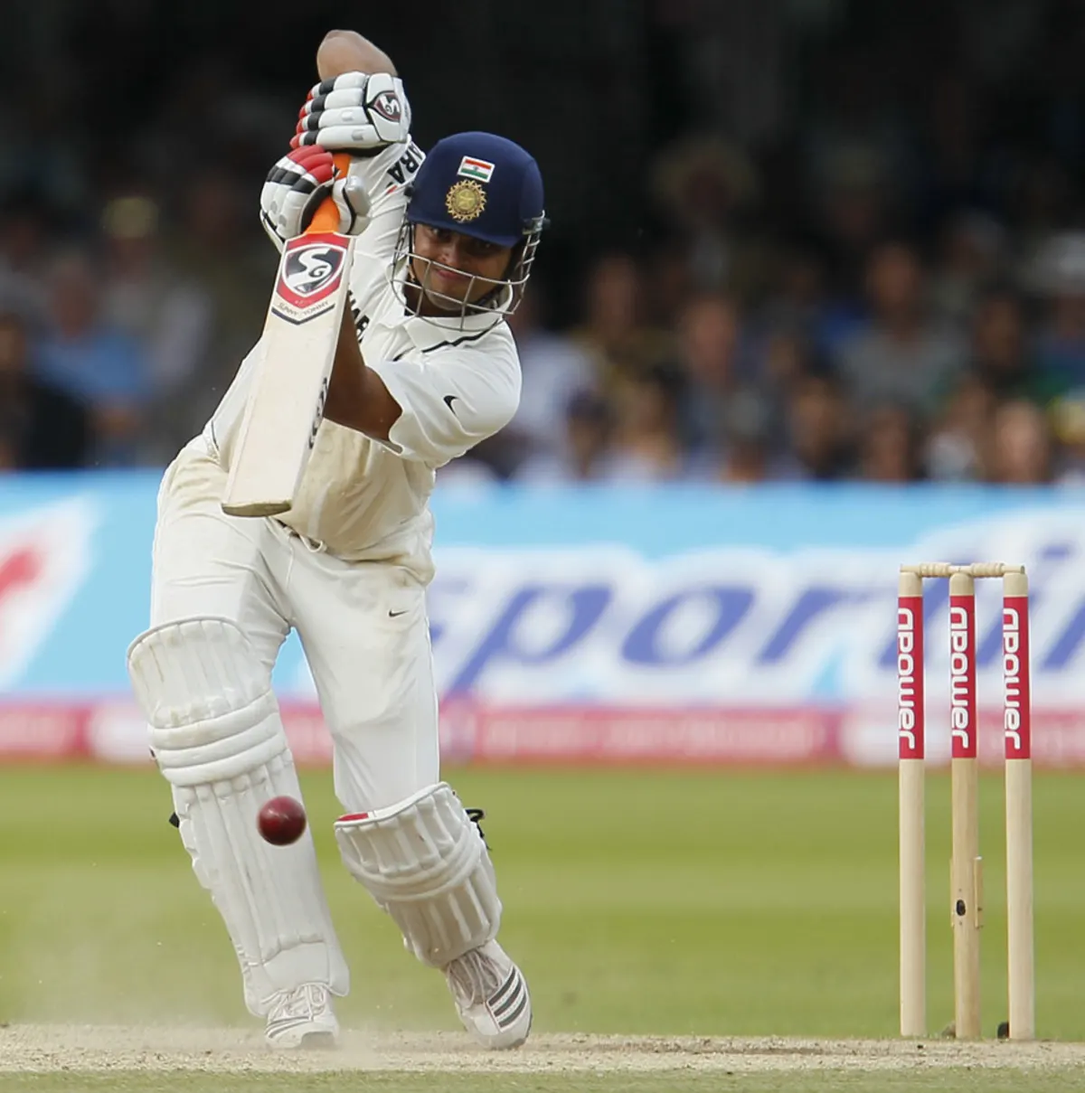Defence: (57, 3, 846, 1093)
